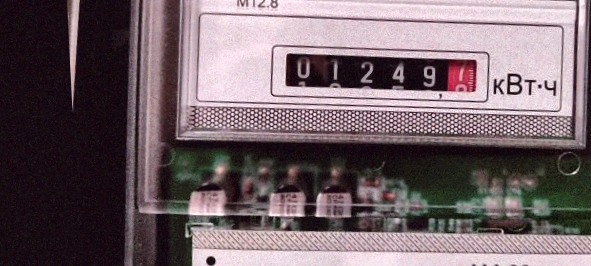0: (294, 53, 312, 79)
1: (326, 54, 341, 81)
2: (356, 59, 375, 85)
4: (389, 58, 407, 84)
7: (453, 56, 470, 82)
9: (418, 61, 437, 88)
screen: (266, 32, 494, 116)
